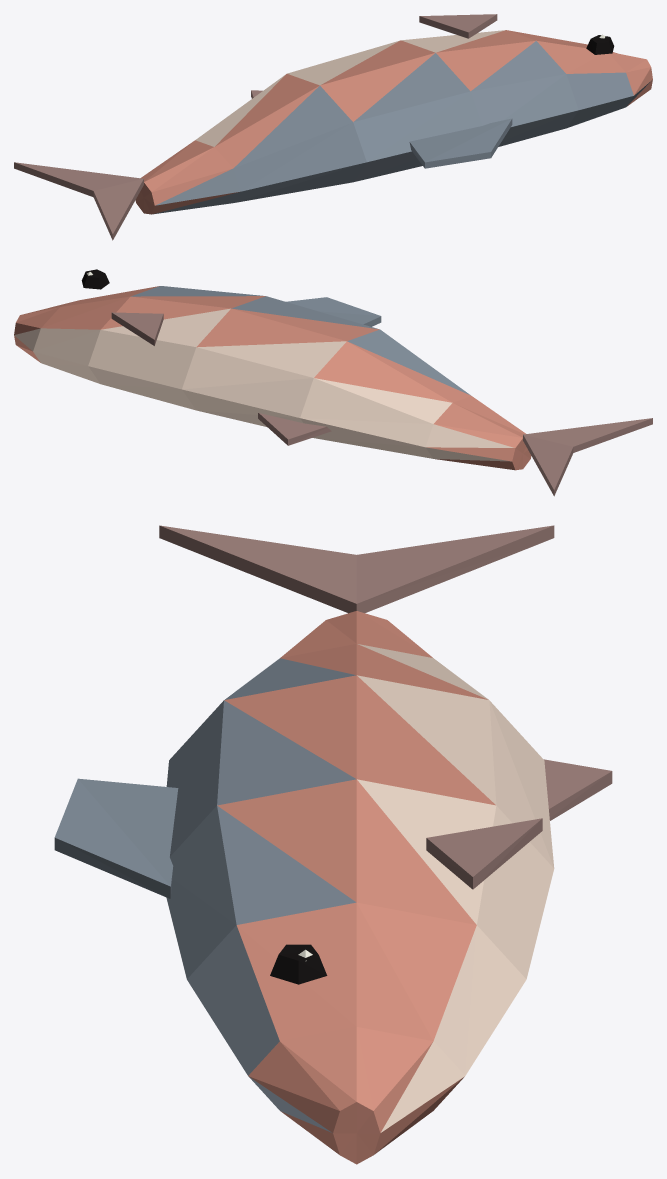
File: raw-salmon.obj
The picture shows the model from 3 angles, top to bottom: view 1: azimuth 30°, elevation 25°; view 2: azimuth 150°, elevation 25°; view 3: azimuth 270°, elevation 25°; orthographic projection. The views are drawn at different scales.
Parts seen in each view (by area): view 1: main; view 2: main; view 3: main.
Boxes of the visible parts, bbox=[...] form: main: bbox=[14, 14, 652, 240]; main: bbox=[14, 269, 652, 496]; main: bbox=[54, 525, 612, 1164].
Size of the model in its own units: 116 by 17 by 48.
